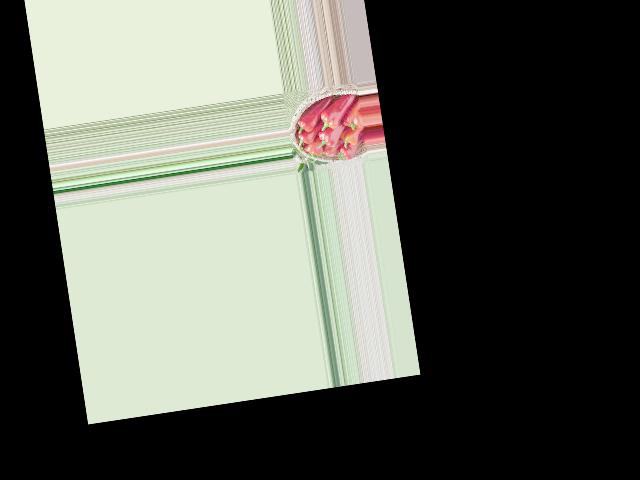bell_pepper: (294, 128, 317, 148)
